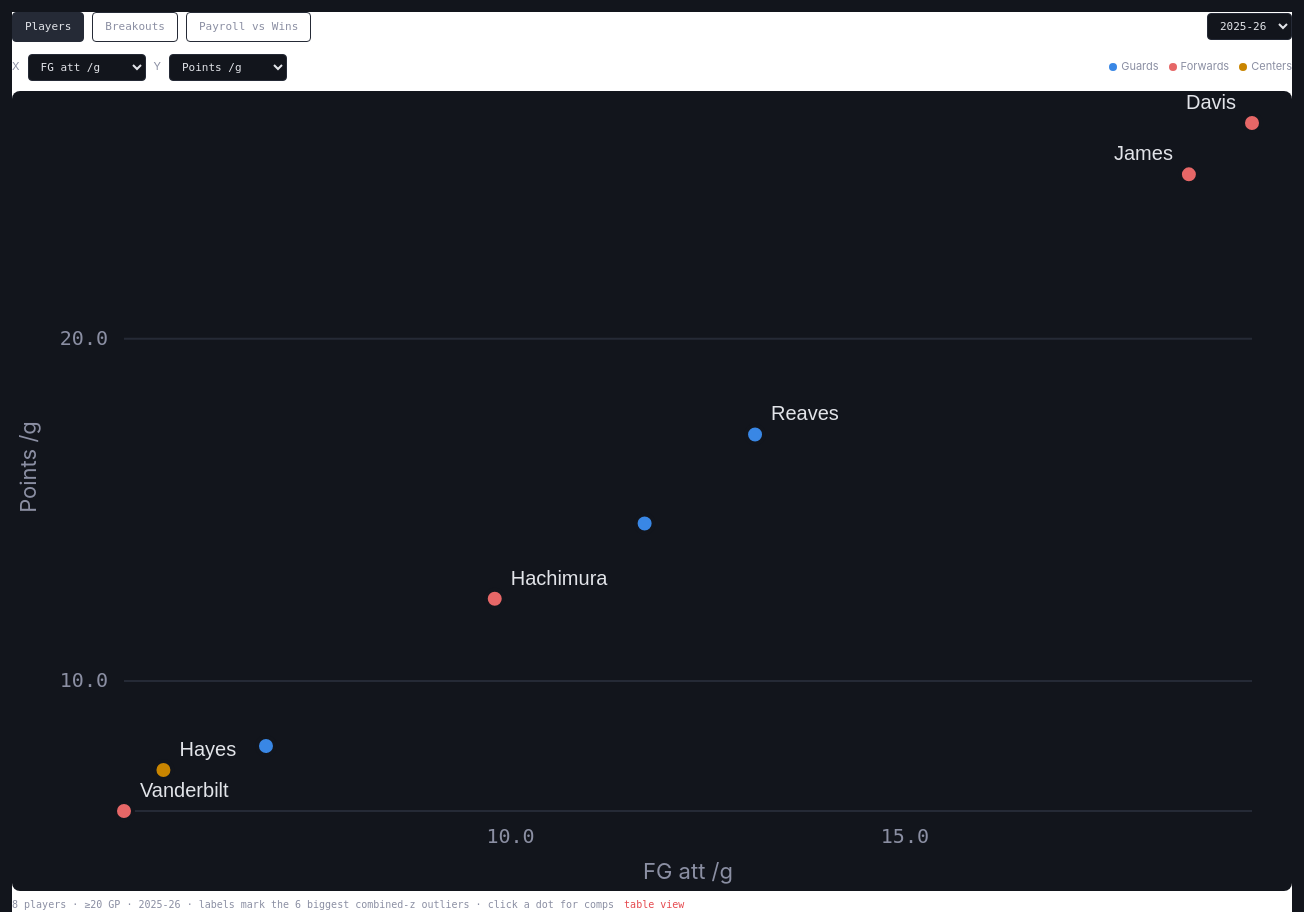
Test: LeagueLens — scatter view › redraws against a new axis when the stat select changes
This screenshot has width=1304, height=912.
Select "Rebounds /g" in the dropdown named "Y axis stat" at (228, 67), box [169, 54, 287, 81]
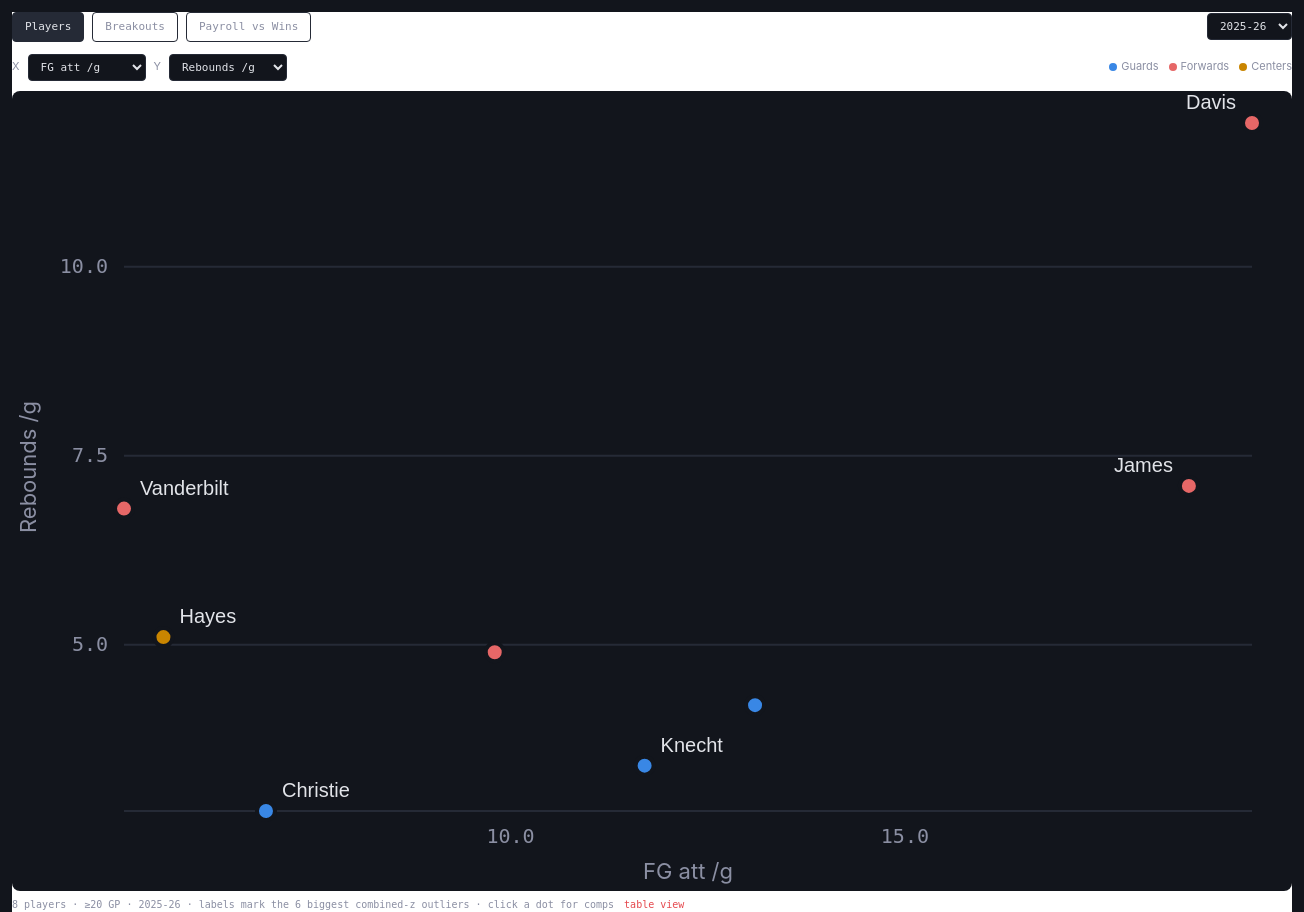
Expected: the picture named "Rebounds /g vs FG att /g scatter" is shown
